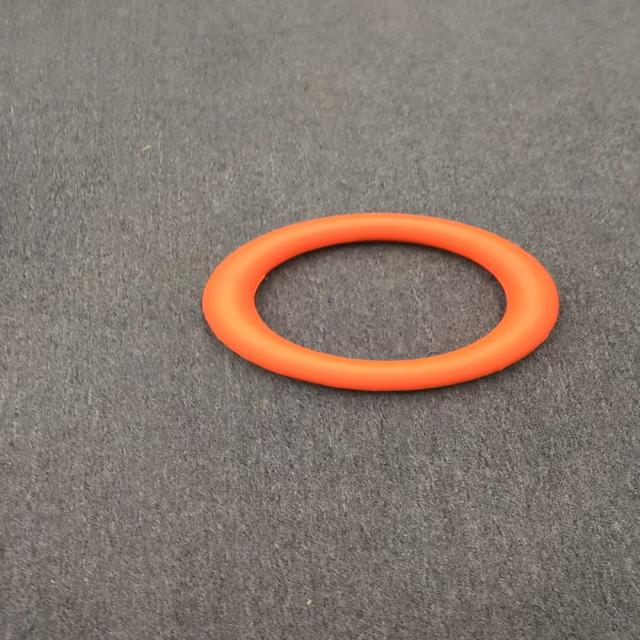note: (203, 210, 567, 379)
